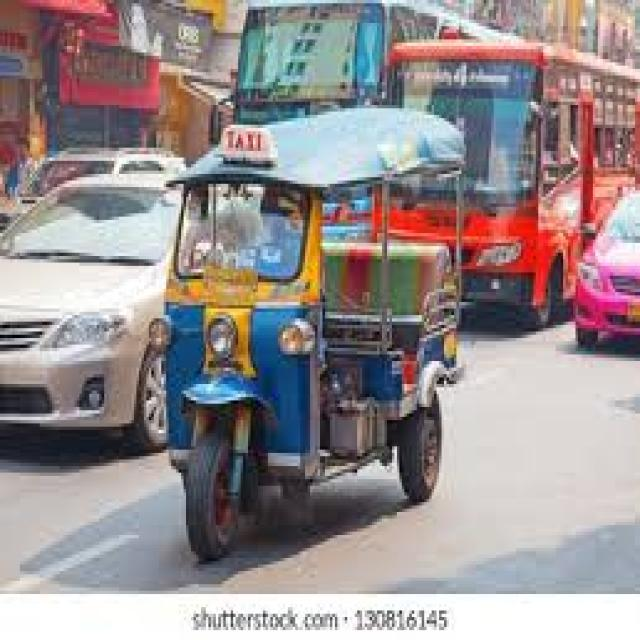bus: (479, 12, 560, 329), (208, 2, 401, 86)
tuktuk: (165, 109, 470, 573)
